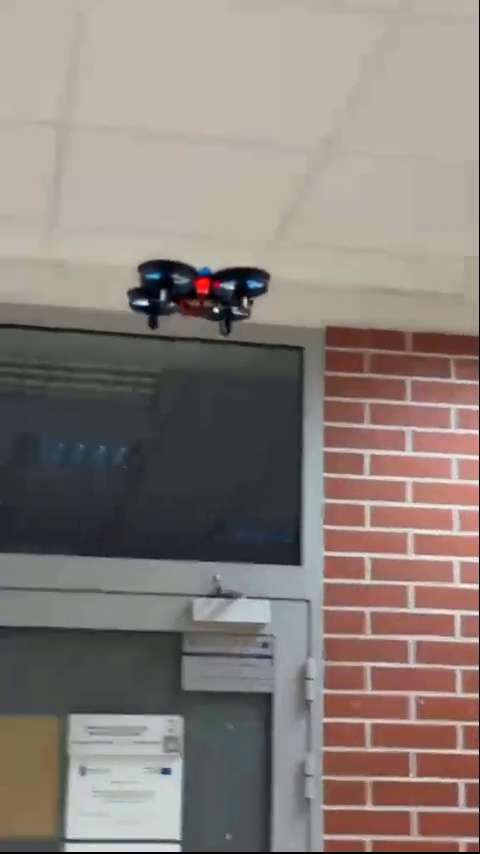drone: (130, 262, 271, 335)
